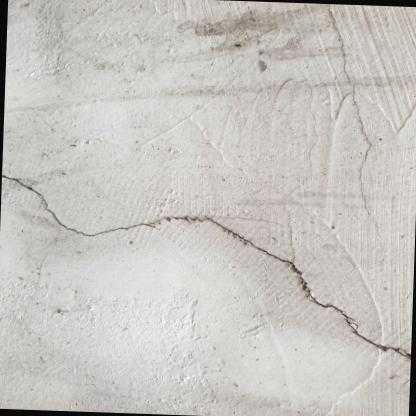crack: (1, 171, 411, 361)
